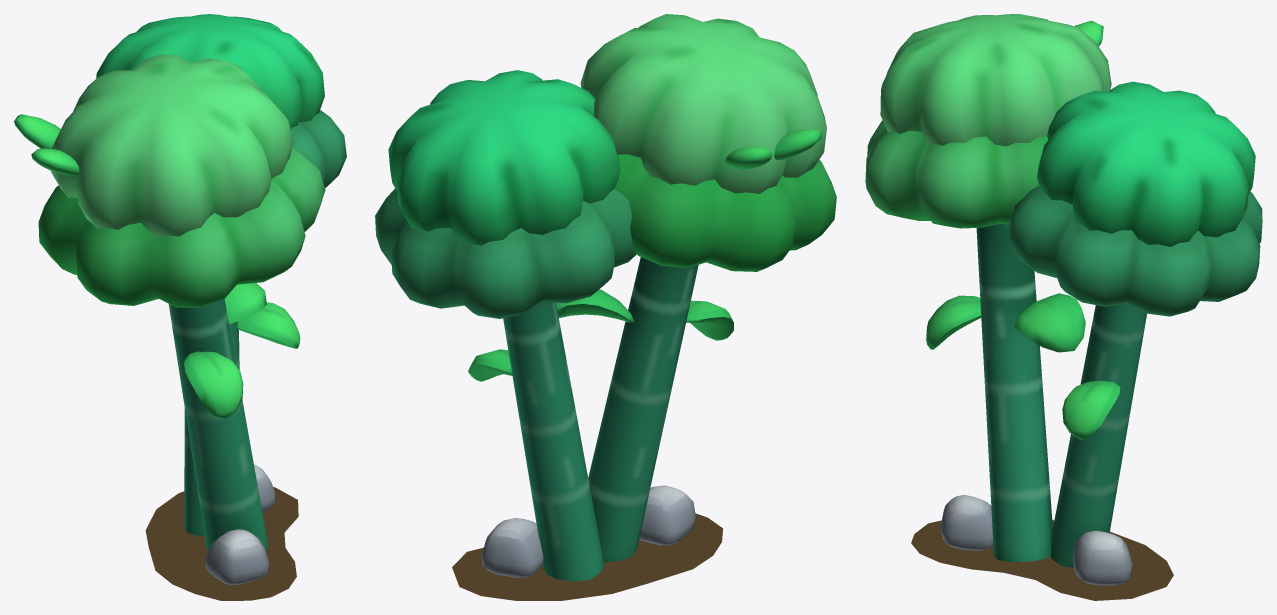
The model's file is Bamboo01.fbx.
3 views of the same model, side by side, from view 1: azimuth 30°, elevation 25°; view 2: azimuth 150°, elevation 25°; view 3: azimuth 270°, elevation 25° (orthographic). The views are drawn at different scales.
Parts seen in each view (by area): view 1: polySurface13, polySurface7, polySurface1; view 2: polySurface13, polySurface7, polySurface1; view 3: polySurface13, polySurface7, polySurface1.
Part boxes in pixels (left/top/right/bottom): polySurface13: left=14, top=14, right=346, bottom=307; polySurface7: left=168, top=283, right=300, bottom=585; polySurface1: left=145, top=487, right=298, bottom=600; polySurface13: left=375, top=14, right=836, bottom=318; polySurface7: left=468, top=257, right=733, bottom=581; polySurface1: left=452, top=513, right=723, bottom=600; polySurface13: left=865, top=14, right=1262, bottom=316; polySurface7: left=926, top=224, right=1146, bottom=585; polySurface1: left=911, top=520, right=1173, bottom=600.
Size of the model in its own units: 270 by 377 by 272.
